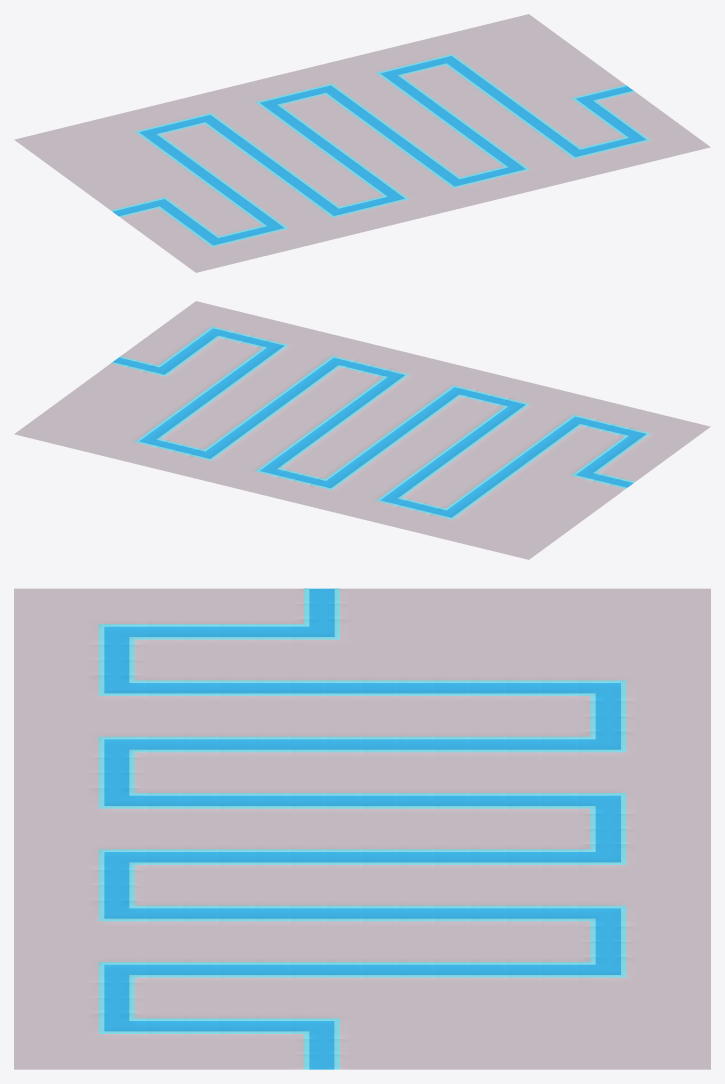
The model's file is trilha neve plus.fbx.
3 views of the same model, one above another, from view 1: azimuth 30°, elevation 25°; view 2: azimuth 150°, elevation 25°; view 3: azimuth 270°, elevation 25° (orthographic). The views are drawn at different scales.
Visible parts, largest first — view 1: Plane.064; view 2: Plane.064; view 3: Plane.064.
Boxes of the visible parts, x1=… form: Plane.064: x1=14, y1=14, x2=710, y2=272; Plane.064: x1=14, y1=301, x2=710, y2=559; Plane.064: x1=14, y1=588, x2=710, y2=1069.
Size of the model in its own units: 29696 by 15.72 by 18180.
